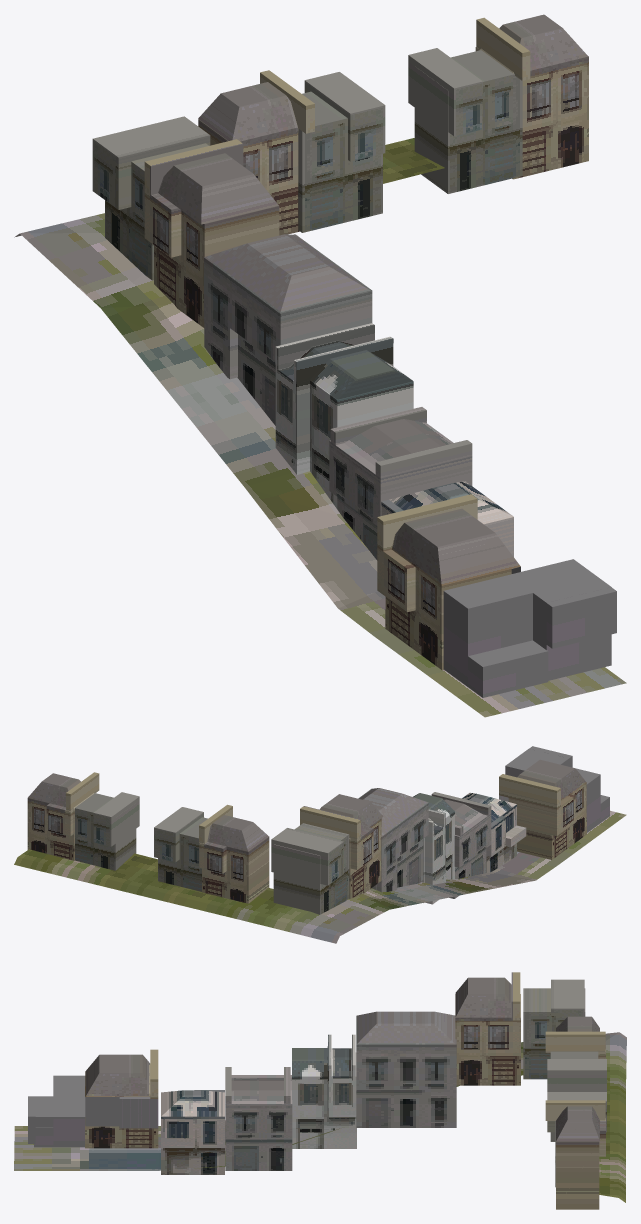
File: lodboxes04.obj
The picture shows the model from 3 angles, top to bottom: view 1: azimuth 30°, elevation 25°; view 2: azimuth 150°, elevation 25°; view 3: azimuth 270°, elevation 25°; orthographic projection. The views are drawn at different scales.
Visible parts, largest first — view 1: LODboxes04; view 2: LODboxes04; view 3: LODboxes04.
Part boxes in pixels (<box>): LODboxes04: <box>14,14,626,717</box>; LODboxes04: <box>14,746,626,943</box>; LODboxes04: <box>14,972,626,1209</box>.
Size of the model in its own units: 49.23 by 23.96 by 76.95.
11 materials, 11 textured.
